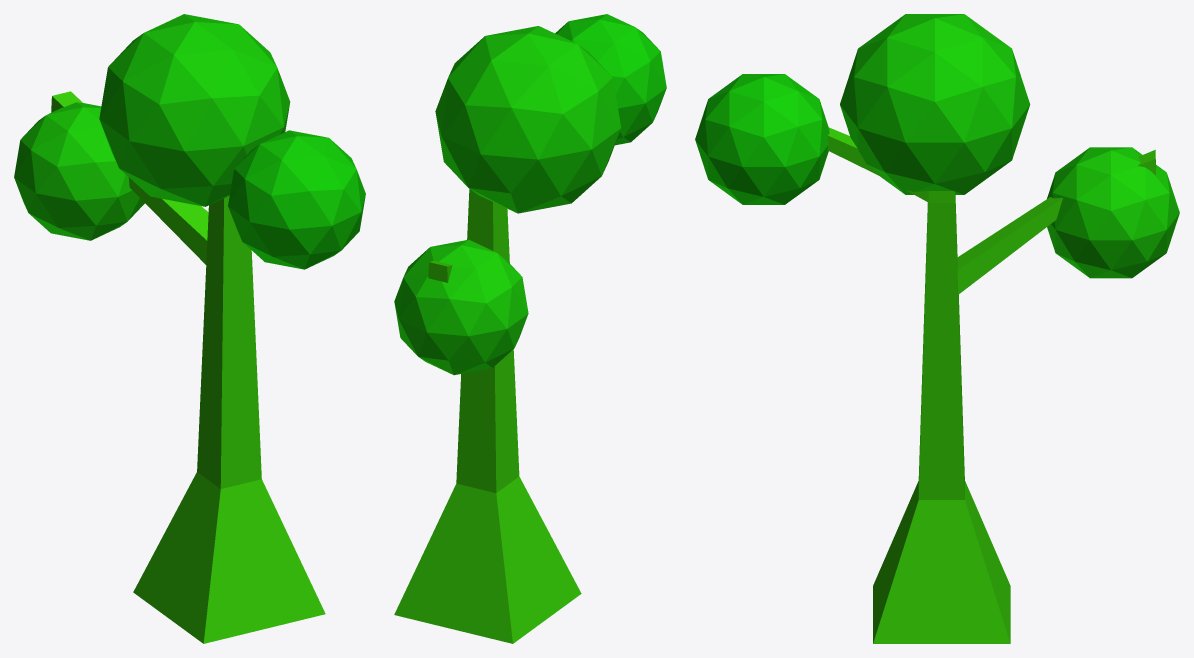
The model's file is arbre.obj.
3 views of the same model, side by side, from view 1: azimuth 30°, elevation 25°; view 2: azimuth 150°, elevation 25°; view 3: azimuth 270°, elevation 25° (orthographic). The views are drawn at different scales.
Parts seen in each view (by area): view 1: Cube, Icosphère.002, Icosphère.001, Icosphère; view 2: Cube, Icosphère.002, Icosphère, Icosphère.001; view 3: Cube, Icosphère.002, Icosphère.001, Icosphère.
Boxes of the visible parts, x1=… form: Cube: x1=51, y1=91, x2=325, y2=643; Icosphère.002: x1=99, y1=14, x2=290, y2=206; Icosphère.001: x1=228, y1=130, x2=365, y2=269; Icosphère: x1=14, y1=102, x2=144, y2=240; Cube: x1=394, y1=189, x2=581, y2=643; Icosphère.002: x1=435, y1=26, x2=621, y2=213; Icosphère: x1=394, y1=239, x2=528, y2=375; Icosphère.001: x1=555, y1=14, x2=666, y2=145; Cube: x1=827, y1=127, x2=1155, y2=643; Icosphère.002: x1=840, y1=14, x2=1030, y2=194; Icosphère.001: x1=695, y1=74, x2=829, y2=204; Icosphère: x1=1047, y1=147, x2=1179, y2=278.
Size of the model in its own units: 2.94 by 9.28 by 7.05.
